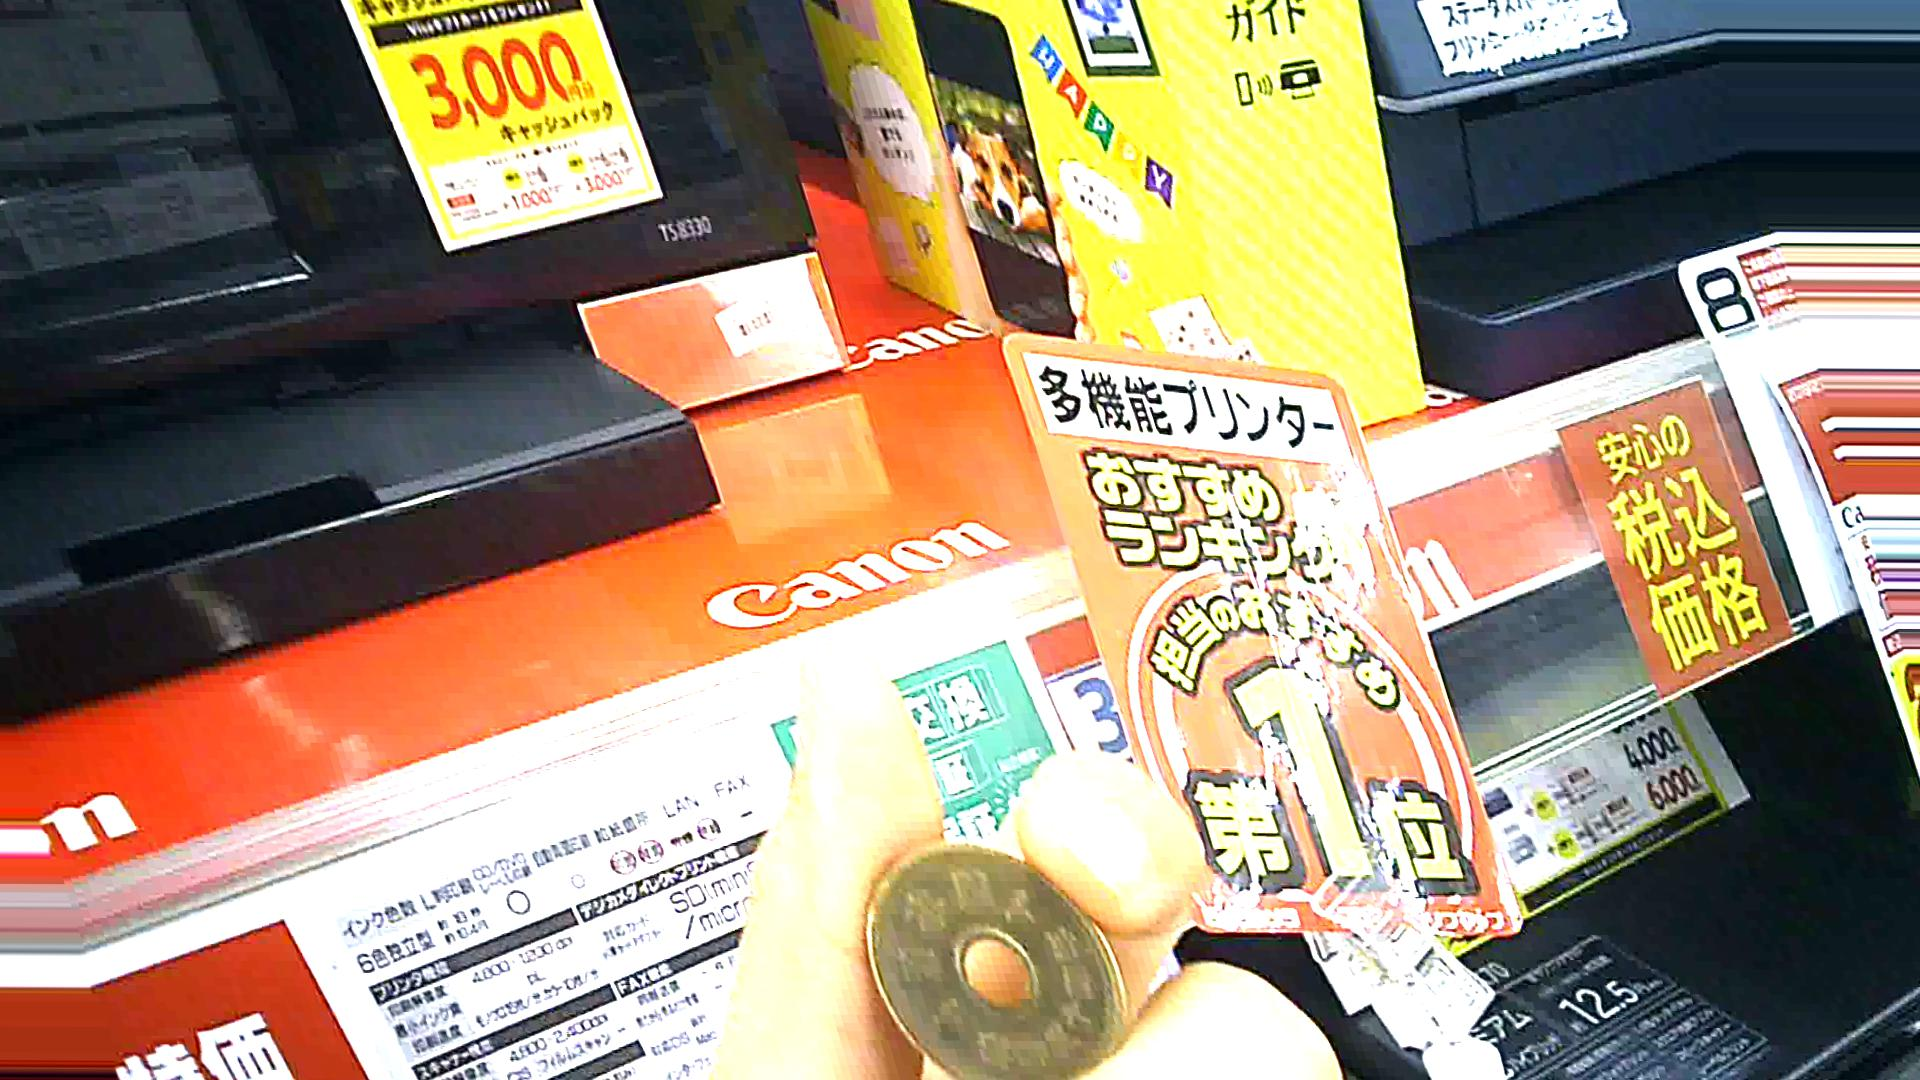5 Yen: (843, 844, 1127, 1079)
